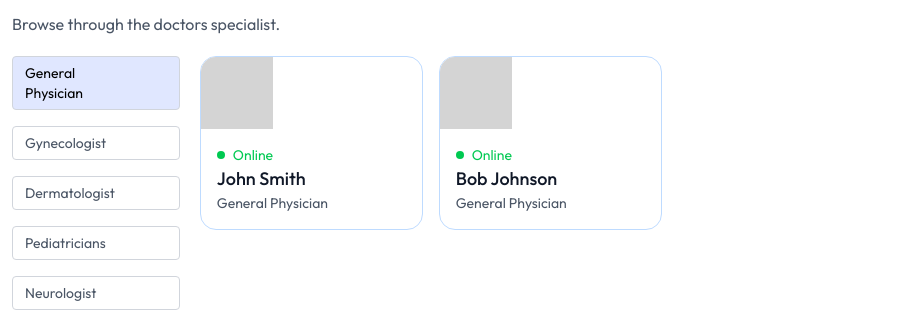
Doctors page › clears speciality filter when active button clicked again
Expected: the text "John Smith" is shown, [217, 167, 306, 190]
Expected: the text "Bob Johnson" is shown, [456, 167, 557, 190]
Click the button "General Physician": (96, 83) [12, 56, 180, 110]
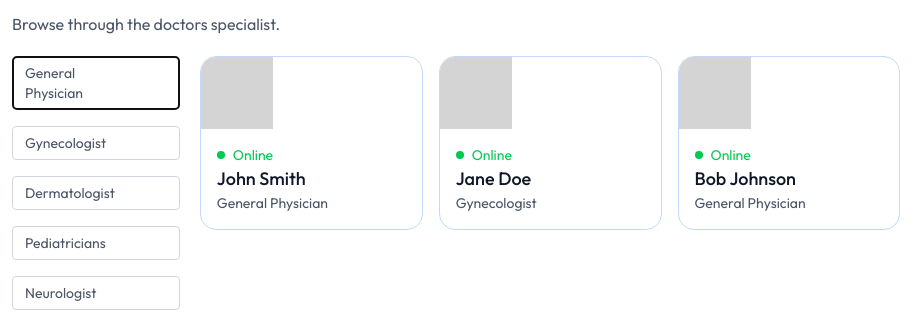
Expected: the text "John Smith" is shown, [217, 167, 306, 190]
Now the text "Jane Doe" is shown, box [456, 167, 531, 190]
